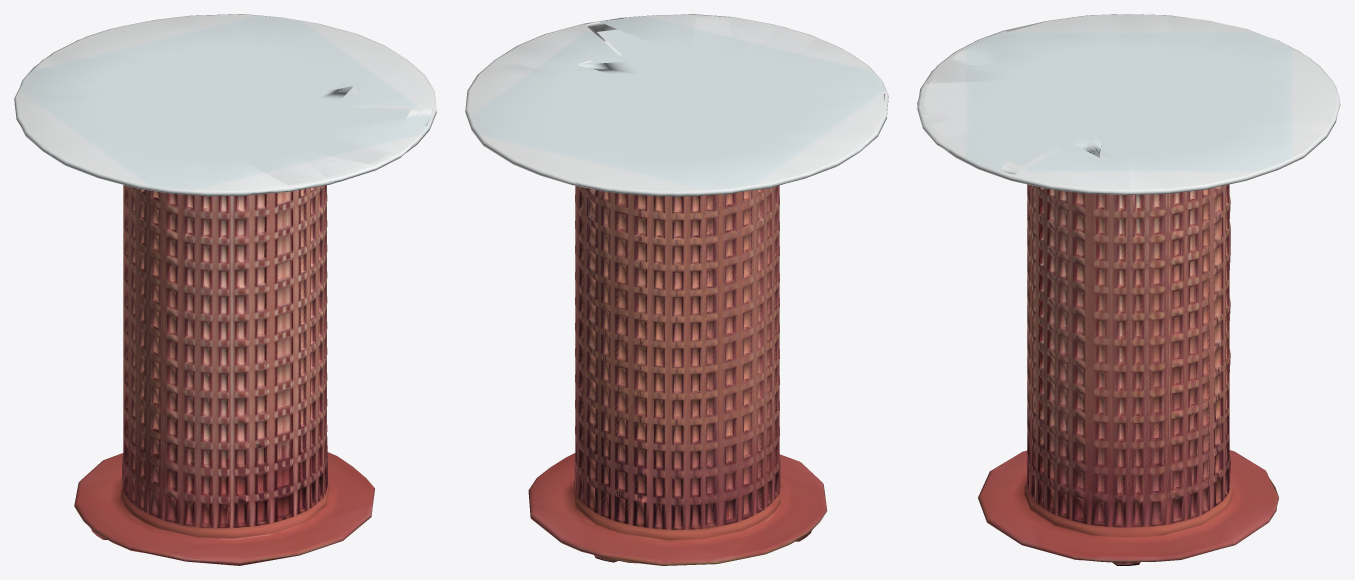
The model's file is Mesh_Cafe_Table_Cora_0404041020_texture.glb.
The picture shows the model from 3 angles, left to right: view 1: azimuth 30°, elevation 25°; view 2: azimuth 150°, elevation 25°; view 3: azimuth 270°, elevation 25°; orthographic projection.
Parts seen in each view (by area): view 1: Mesh_0.007; view 2: Mesh_0.007; view 3: Mesh_0.007.
Part boxes in pixels (x1,y1,x2,y2): Mesh_0.007: (14,14,436,565); Mesh_0.007: (465,14,888,565); Mesh_0.007: (917,14,1340,565).
Bounding box in the file's own units: 1.01 × 1.07 × 1.01.
1 material, 1 textured.
